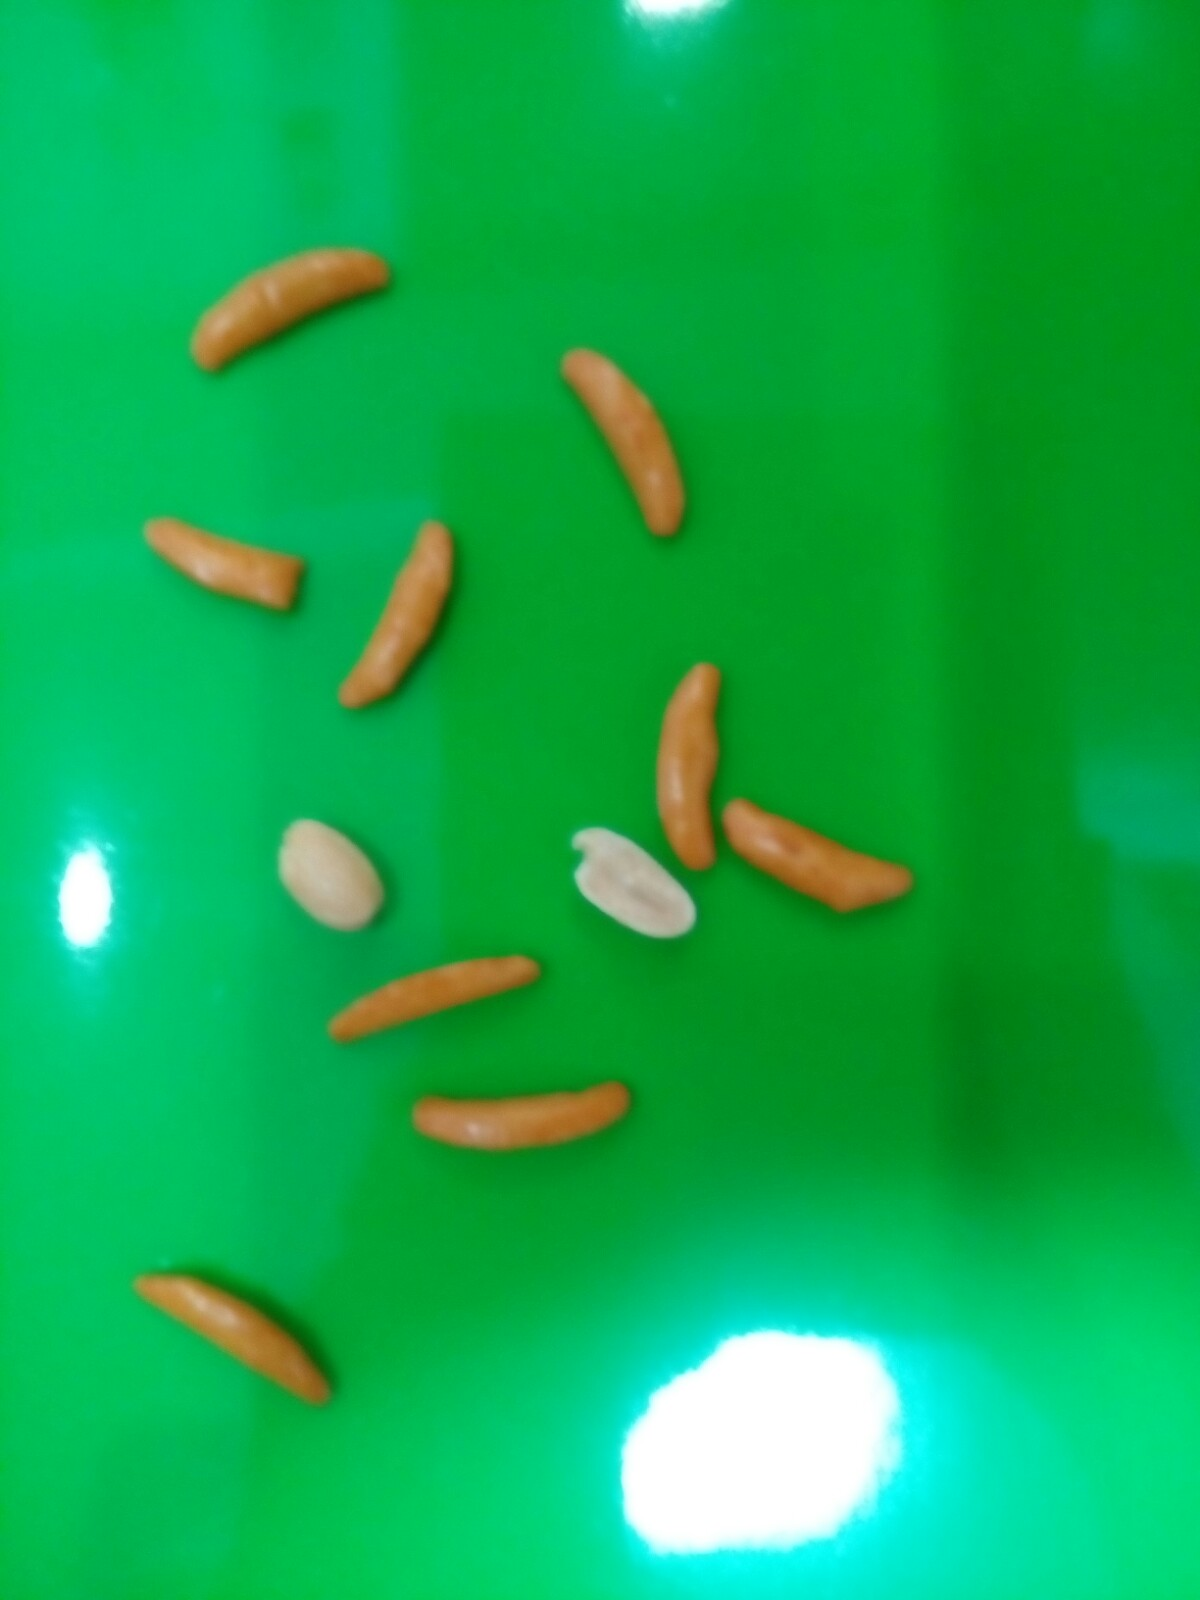peanut: (558, 819, 711, 947), (275, 816, 388, 929)
